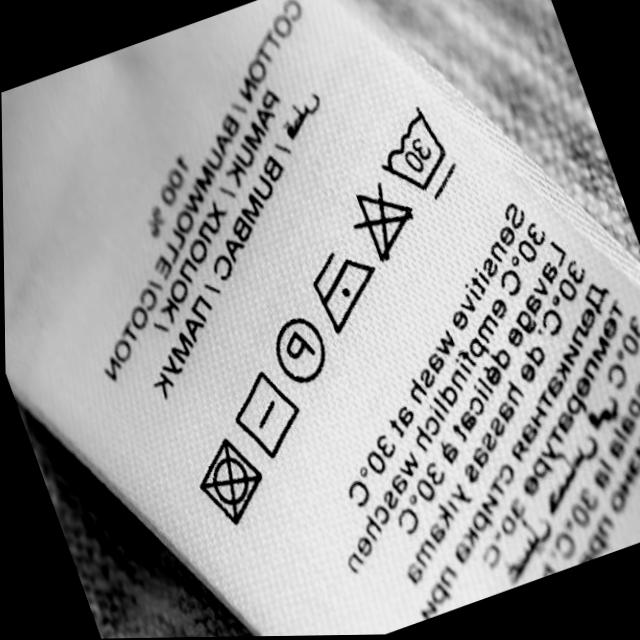30C: (381, 108, 458, 199)
DN_bleach: (354, 185, 416, 262)
DN_tumble_dry: (199, 441, 264, 521)
dry_clean_any_solvent_except_trichloroethylene: (269, 315, 331, 385)
dry_flat: (235, 373, 304, 454)
iron_low: (313, 250, 382, 335)
